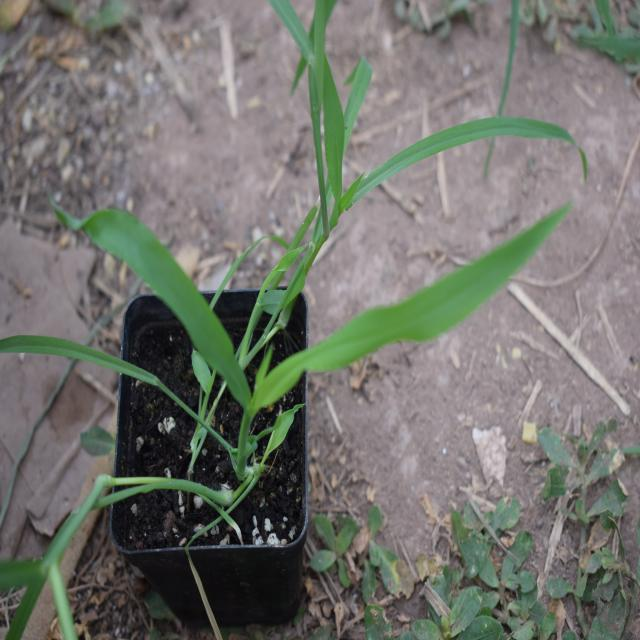crabgrass: (78, 146, 547, 424), (217, 8, 579, 257)
